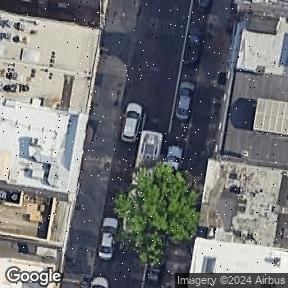vegetation: (97, 150, 217, 270)
